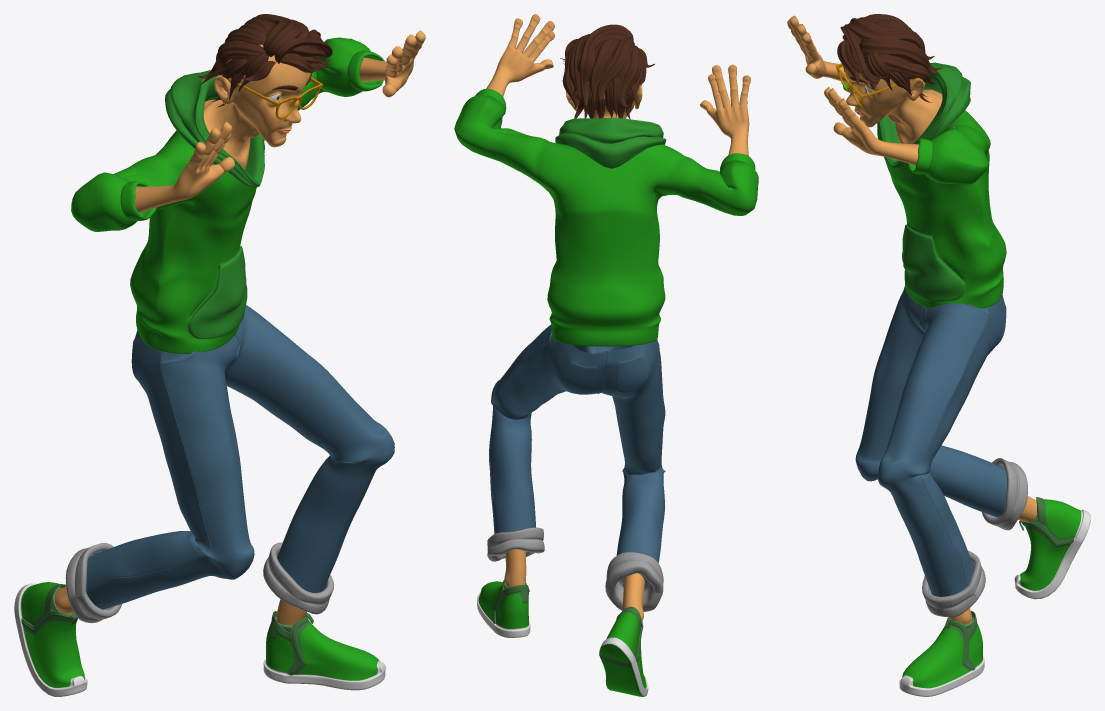
The model's file is per_noah.glb.
3 views of the same model, side by side, from view 1: azimuth 30°, elevation 25°; view 2: azimuth 150°, elevation 25°; view 3: azimuth 270°, elevation 25° (orthographic). The views are drawn at different scales.
Parts seen in each view (by area): view 1: Pantalon_Noah.001, Buso_Noah.001, Cuerpo Noah.001, Pies_Noah.001, NurbsPath.042, NurbsPath.048, NurbsPath.027; view 2: Buso_Noah.001, Pantalon_Noah.001, Cuerpo Noah.001, Pies_Noah.001, NurbsPath.042, NurbsPath.051, NurbsPath.052, NurbsPath.048, NurbsPath.043; view 3: Pantalon_Noah.001, Buso_Noah.001, Pies_Noah.001, Cuerpo Noah.001, NurbsPath.043, NurbsPath.042, NurbsPath.044, NurbsPath.027, NurbsPath.032.
Boxes of the visible parts, bbox=[...] form: Pantalon_Noah.001: bbox=[65, 305, 394, 623]; Buso_Noah.001: bbox=[71, 37, 384, 353]; Cuerpo Noah.001: bbox=[51, 30, 425, 631]; Pies_Noah.001: bbox=[14, 582, 386, 696]; NurbsPath.042: bbox=[251, 14, 301, 57]; NurbsPath.048: bbox=[198, 40, 263, 78]; NurbsPath.027: bbox=[274, 37, 332, 63]; Buso_Noah.001: bbox=[454, 88, 758, 346]; Pantalon_Noah.001: bbox=[487, 325, 665, 611]; Cuerpo Noah.001: bbox=[486, 14, 750, 625]; Pies_Noah.001: bbox=[477, 579, 648, 696]; NurbsPath.042: bbox=[577, 24, 633, 106]; NurbsPath.051: bbox=[597, 37, 634, 100]; NurbsPath.052: bbox=[588, 38, 619, 101]; NurbsPath.048: bbox=[618, 45, 640, 107]; NurbsPath.043: bbox=[569, 34, 589, 99]; Pantalon_Noah.001: bbox=[855, 286, 1027, 617]; Buso_Noah.001: bbox=[843, 62, 1006, 308]; Pies_Noah.001: bbox=[899, 497, 1090, 696]; Cuerpo Noah.001: bbox=[787, 15, 1038, 630]; NurbsPath.043: bbox=[859, 36, 938, 76]; NurbsPath.042: bbox=[847, 17, 942, 70]; NurbsPath.044: bbox=[863, 54, 934, 84]; NurbsPath.027: bbox=[840, 24, 878, 83]; NurbsPath.032: bbox=[866, 51, 892, 90].
Size of the model in its own units: 0.689 by 1.43 by 0.6291.
